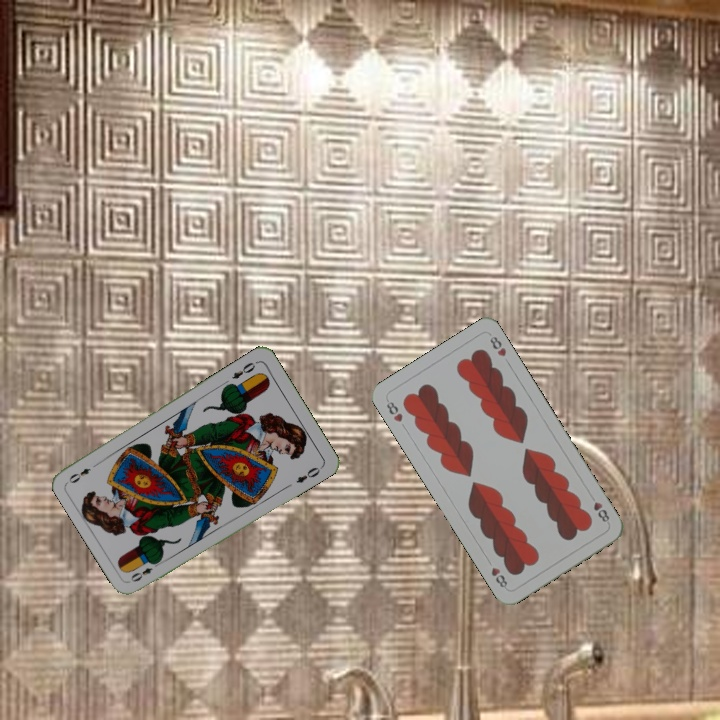EO: (127, 557, 163, 585), (228, 357, 261, 382)
H8: (589, 497, 612, 527), (382, 395, 405, 425)
